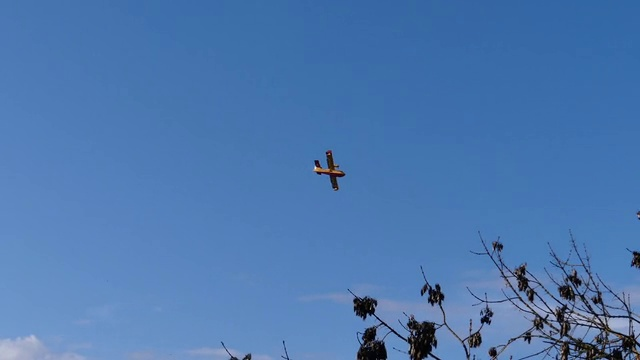plane: (312, 148, 344, 190)
